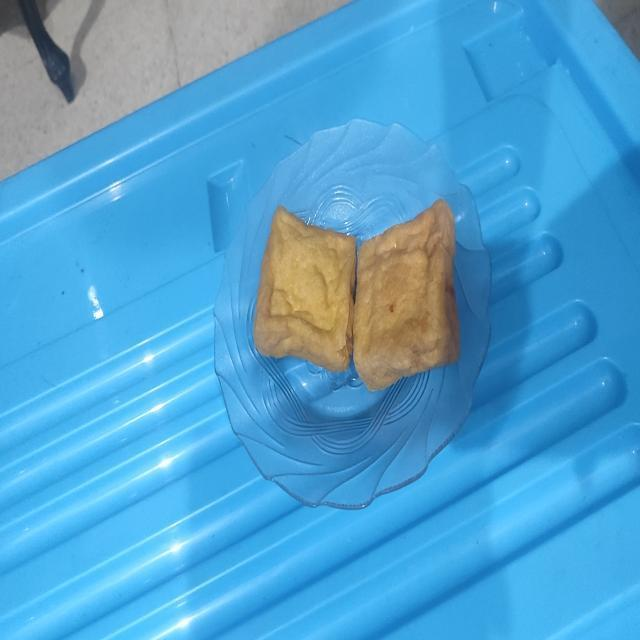tahu_goreng: (353, 199, 460, 390), (254, 206, 356, 372)
